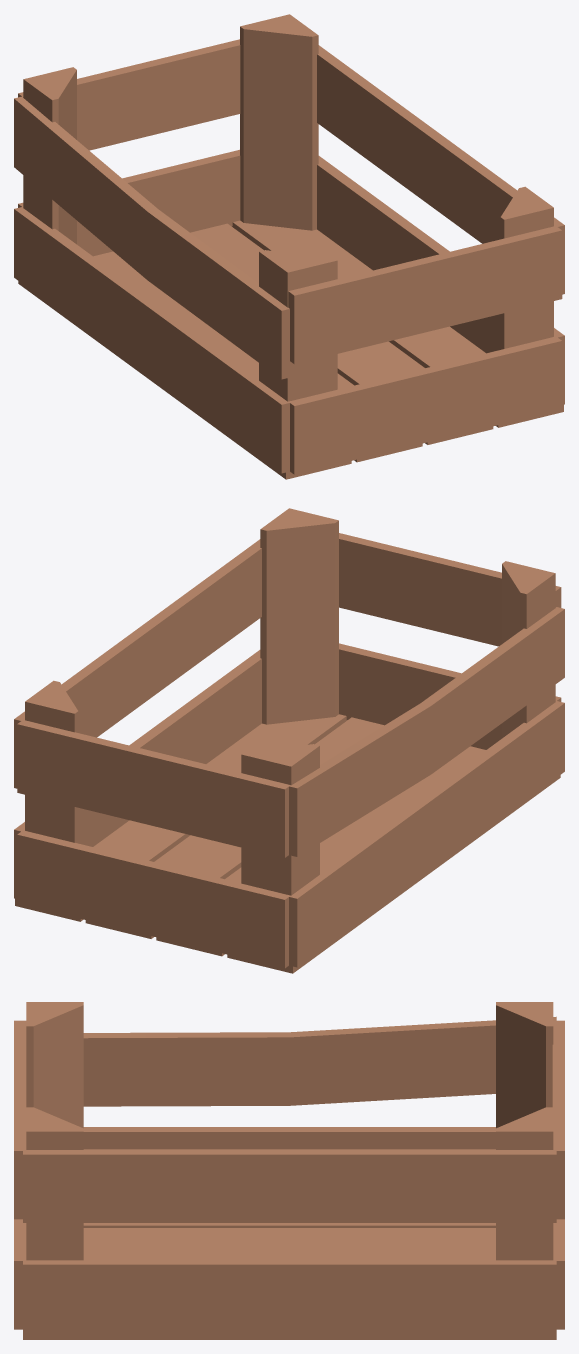
Rendered from prop_13.FBX.
3 views of the same model, one above another, from view 1: azimuth 30°, elevation 25°; view 2: azimuth 150°, elevation 25°; view 3: azimuth 270°, elevation 25° (orthographic).
Parts seen in each view (by area): view 1: prop_13; view 2: prop_13; view 3: prop_13.
Boxes of the visible parts, bbox=[...] form: prop_13: bbox=[14, 14, 564, 479]; prop_13: bbox=[14, 508, 564, 973]; prop_13: bbox=[14, 1002, 564, 1339].
Bounding box in the file's own units: 28 × 19.36 × 47.33.
